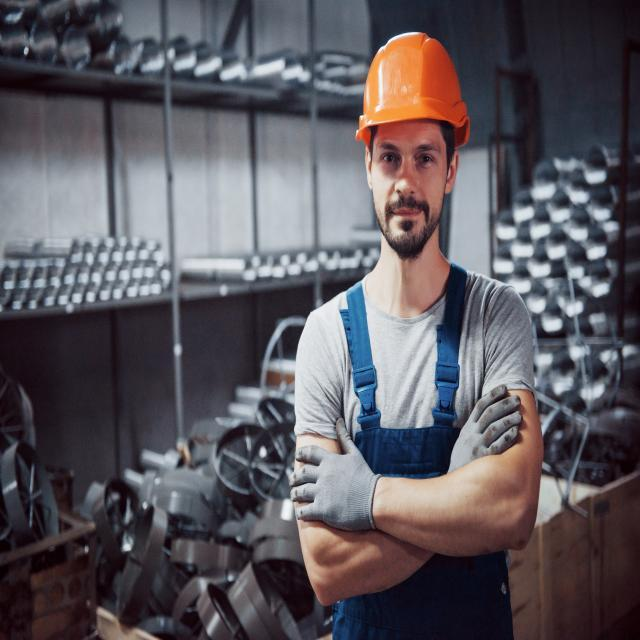helmet: (346, 40, 476, 164)
